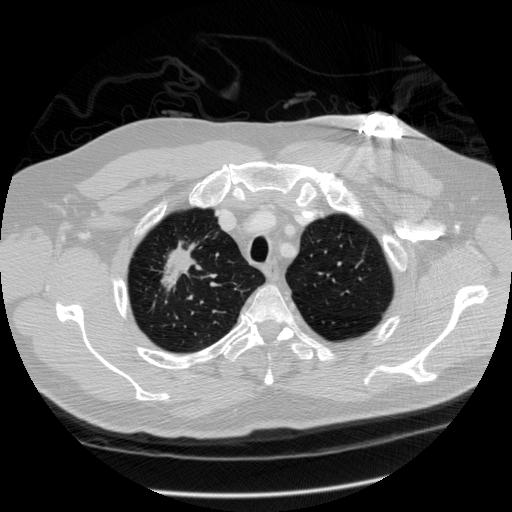nodule: (160, 248, 198, 286)
